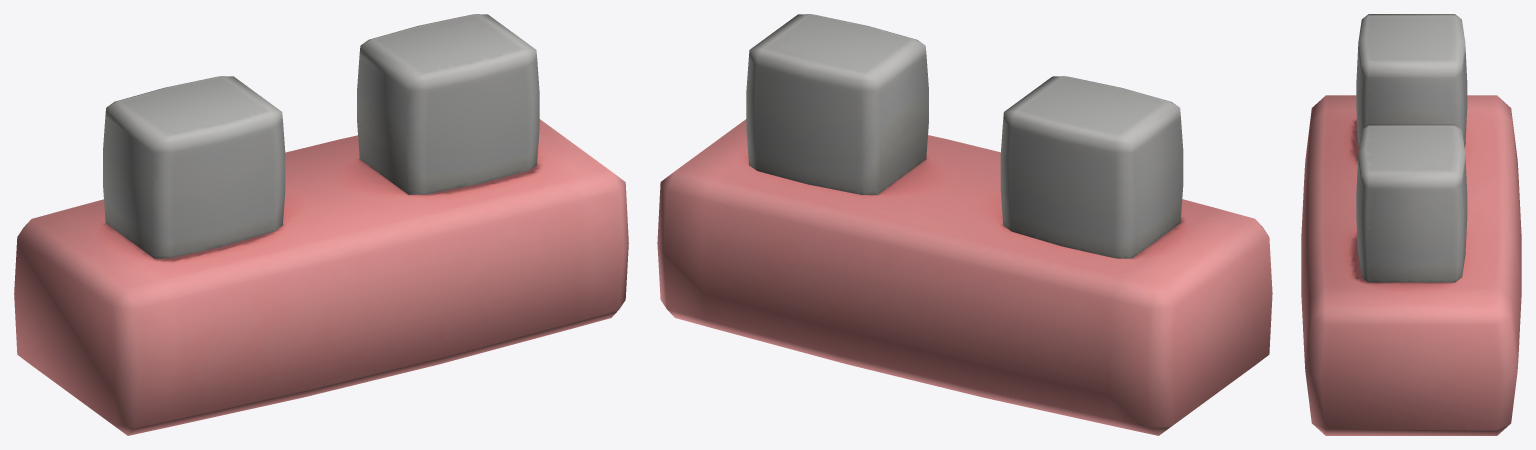
File: JaggedWall.fbx
The picture shows the model from 3 angles, left to right: view 1: azimuth 30°, elevation 25°; view 2: azimuth 150°, elevation 25°; view 3: azimuth 270°, elevation 25°; orthographic projection. The views are drawn at different scales.
Parts seen in each view (by area): view 1: JaggedWall; view 2: JaggedWall; view 3: JaggedWall.
Boxes of the visible parts, x1,y1,x2,y2 form: JaggedWall: (14,14,628,435); JaggedWall: (657,14,1272,435); JaggedWall: (1301,14,1521,435).
Bounding box in the file's own units: 306 × 154 × 128.
